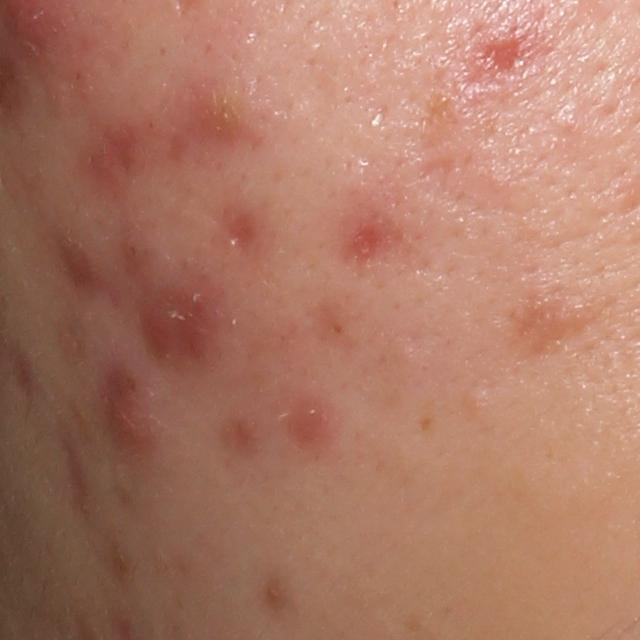atrophic_scar: (419, 87, 528, 216)
comedo: (460, 385, 496, 420)
papule: (105, 397, 166, 454), (287, 393, 340, 450), (194, 94, 242, 144), (144, 302, 184, 356)
